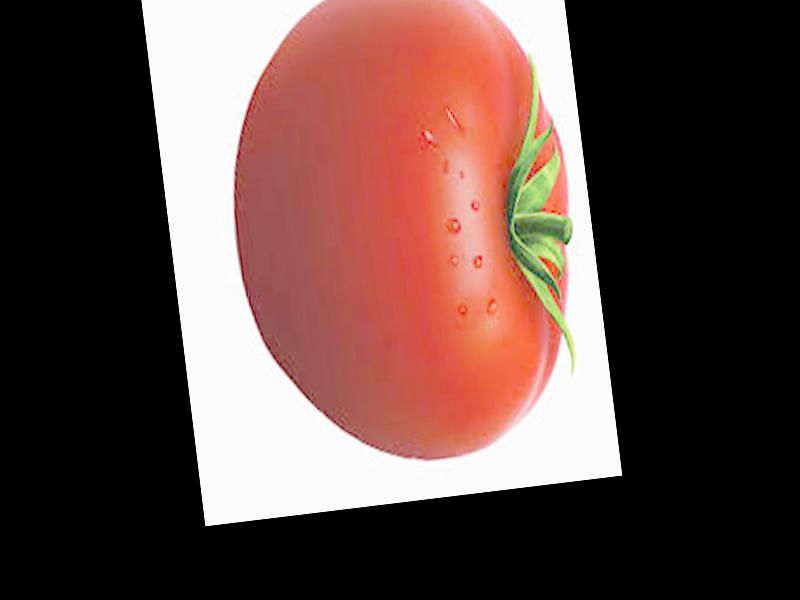Tomato: (212, 17, 599, 480)
